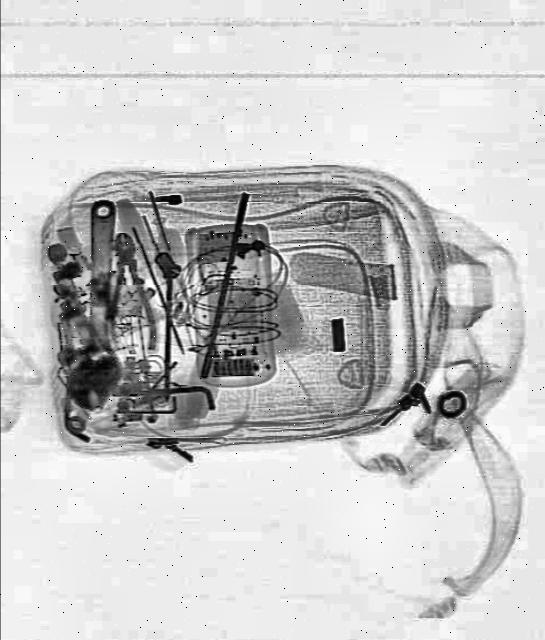Pliers: (98, 229, 160, 355)
Wrench: (65, 196, 131, 412)
